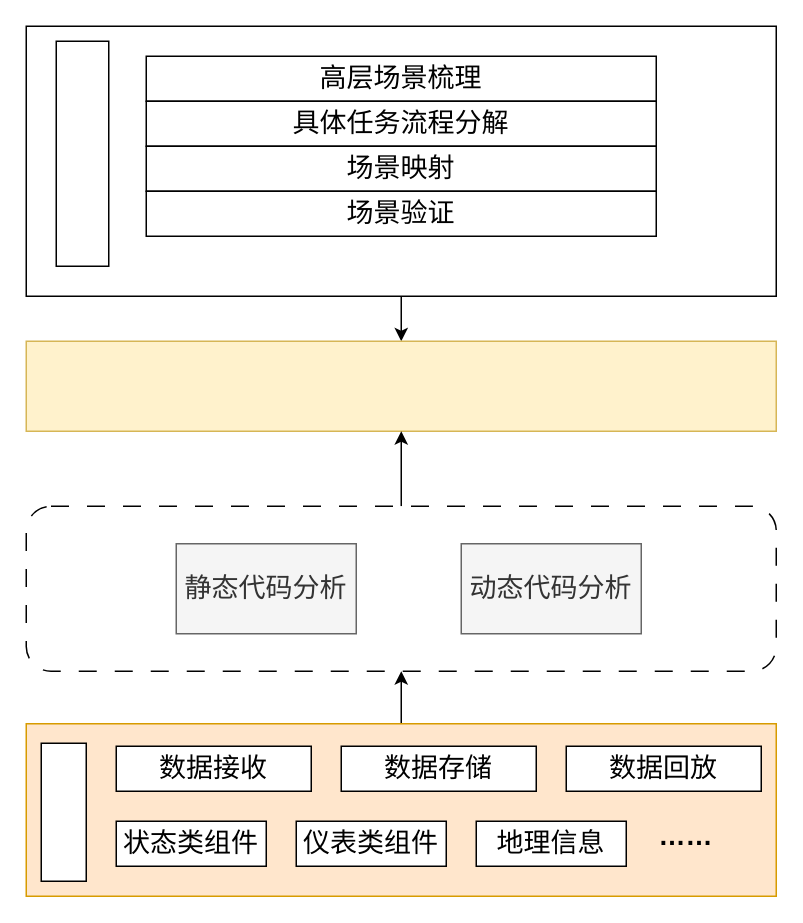
This 803x923 diagram has some shape labels left out. The shapes that lost their labels are listed below. From the top down, each one's centre as x and y in pixels, then its label:
(82,153): 层次化建模
(400,385): 场景库
(63,811): 组件库
